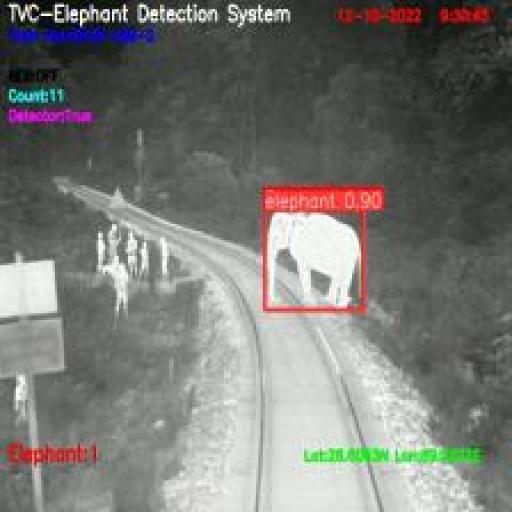Elephant: (265, 210, 365, 311)
